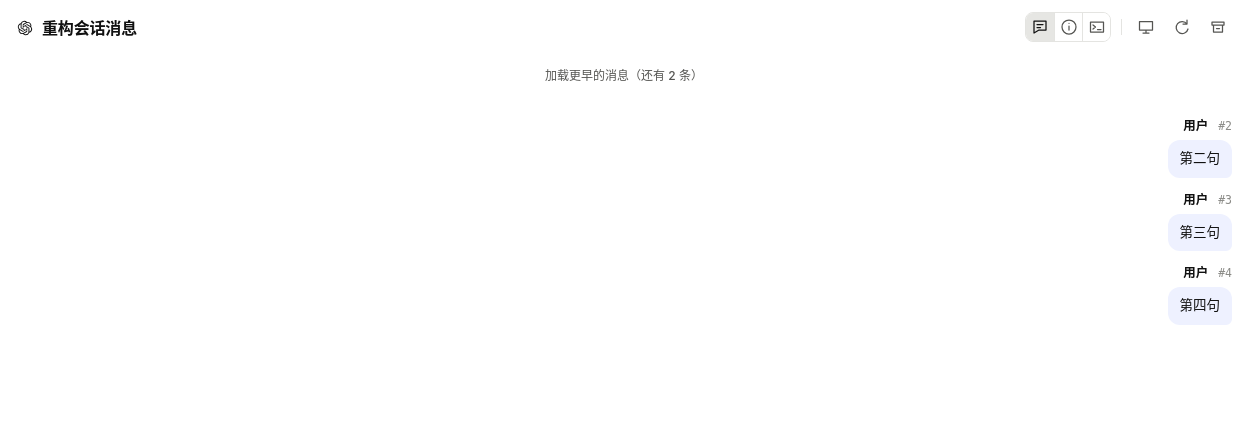
Test: prepends the older page the cursor points at
This screenshot has width=1249, height=429.
Click the button "加载更早的消息（还有 2 条）" at (624, 76), box [534,62,714,90]
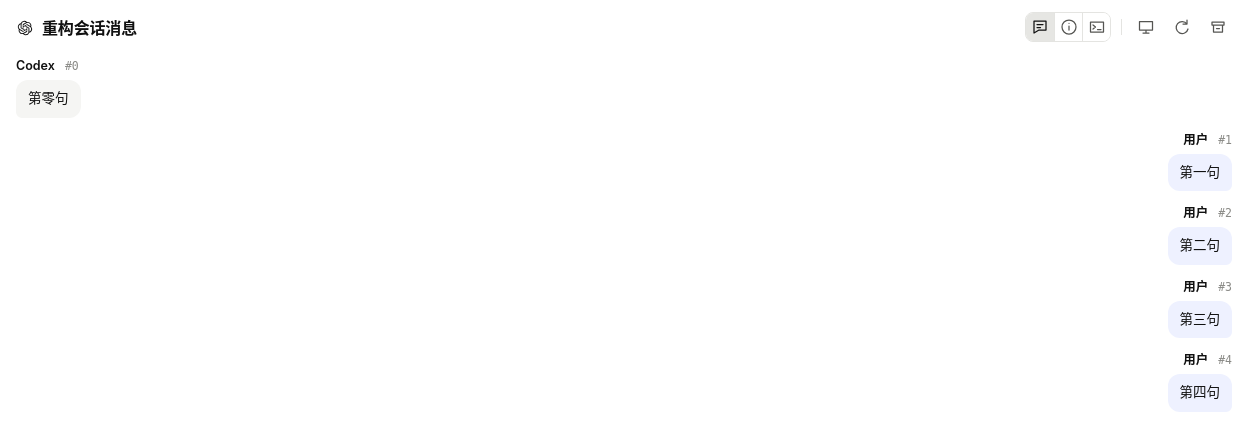
Expected: the button "第一句" is shown, [1168,154,1232,191]
Expected: the button "加载更早的消息" is gone
